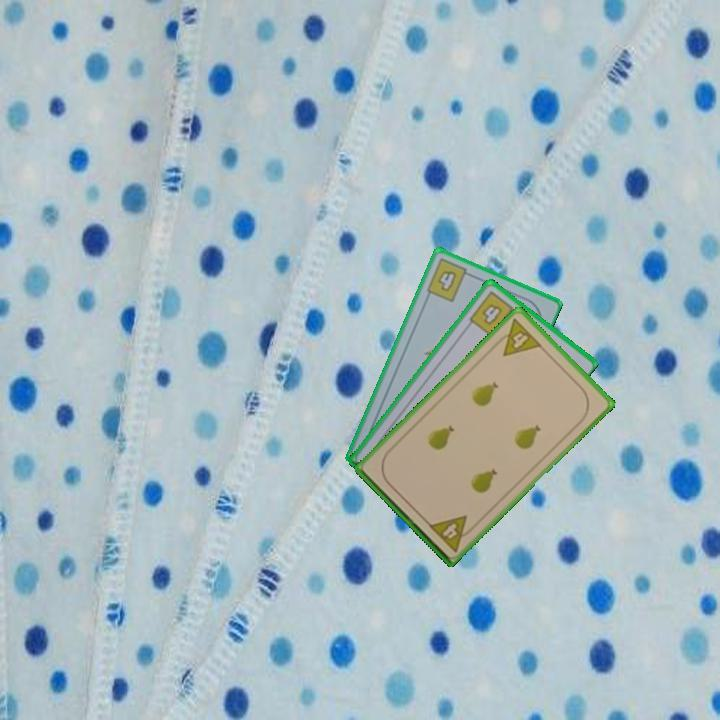4b: (465, 287, 520, 340), (423, 255, 476, 305)
4p: (490, 314, 545, 359), (425, 511, 478, 555)
